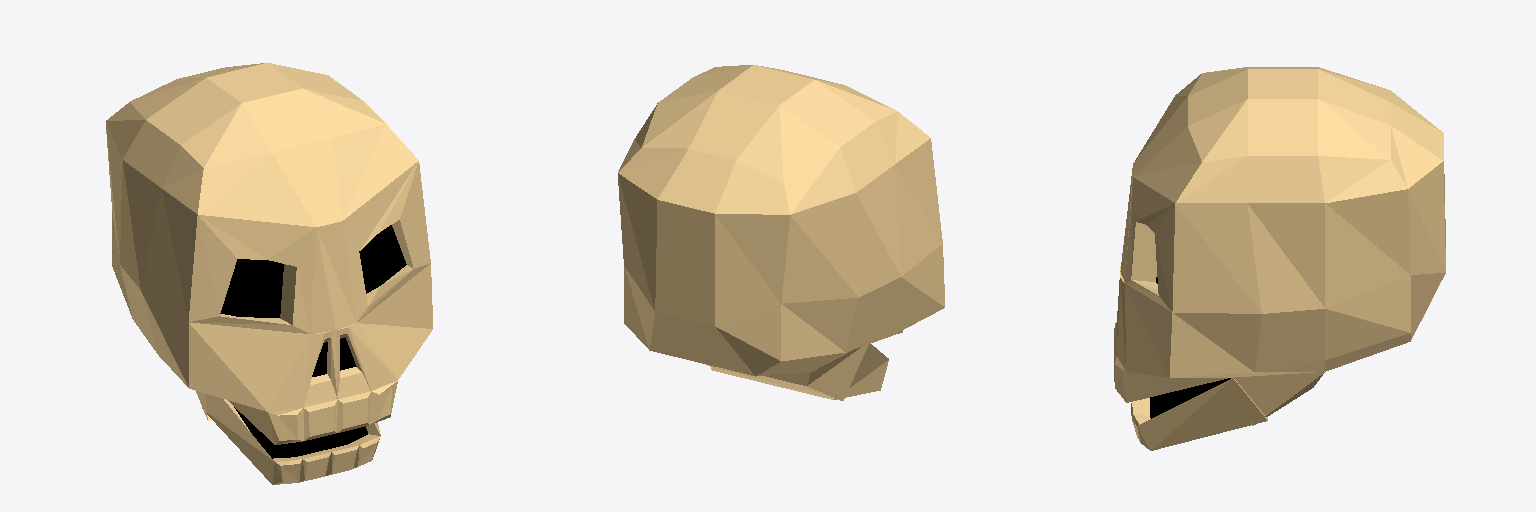
The model's file is Skull03.obj.
The picture shows the model from 3 angles: view 1: azimuth 30°, elevation 25°; view 2: azimuth 150°, elevation 25°; view 3: azimuth 270°, elevation 25°; orthographic projection.
Visible parts, largest first — view 1: SkullOpenD_Cube.025; view 2: SkullOpenD_Cube.025; view 3: SkullOpenD_Cube.025.
Part boxes in pixels (bbox=[...]): SkullOpenD_Cube.025: bbox=[106, 63, 432, 484]; SkullOpenD_Cube.025: bbox=[618, 65, 944, 400]; SkullOpenD_Cube.025: bbox=[1114, 67, 1445, 450].
Bounding box in the file's own units: 1.23 × 1.62 × 1.42.